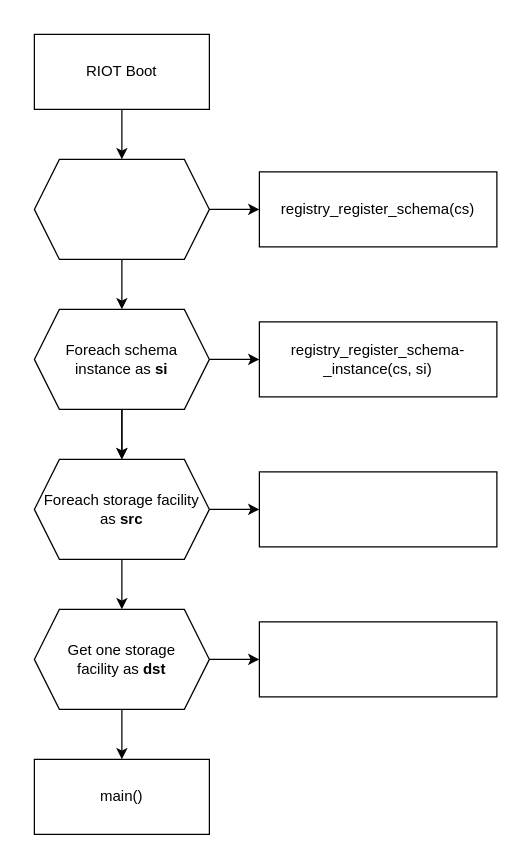
Some shapes in this 530 by 868 pixel diagram are drawn without their labels. The shapes that lost their labels are listed below. From the top down, each one's box as (x1, y1, x2, y2) in pixels, then its label:
(33, 158, 209, 259): Foreach configuration schema as cs
(258, 471, 497, 547): registry_register_storage_src(src)
(258, 621, 497, 697): registry_register_storage_dst(dst)
